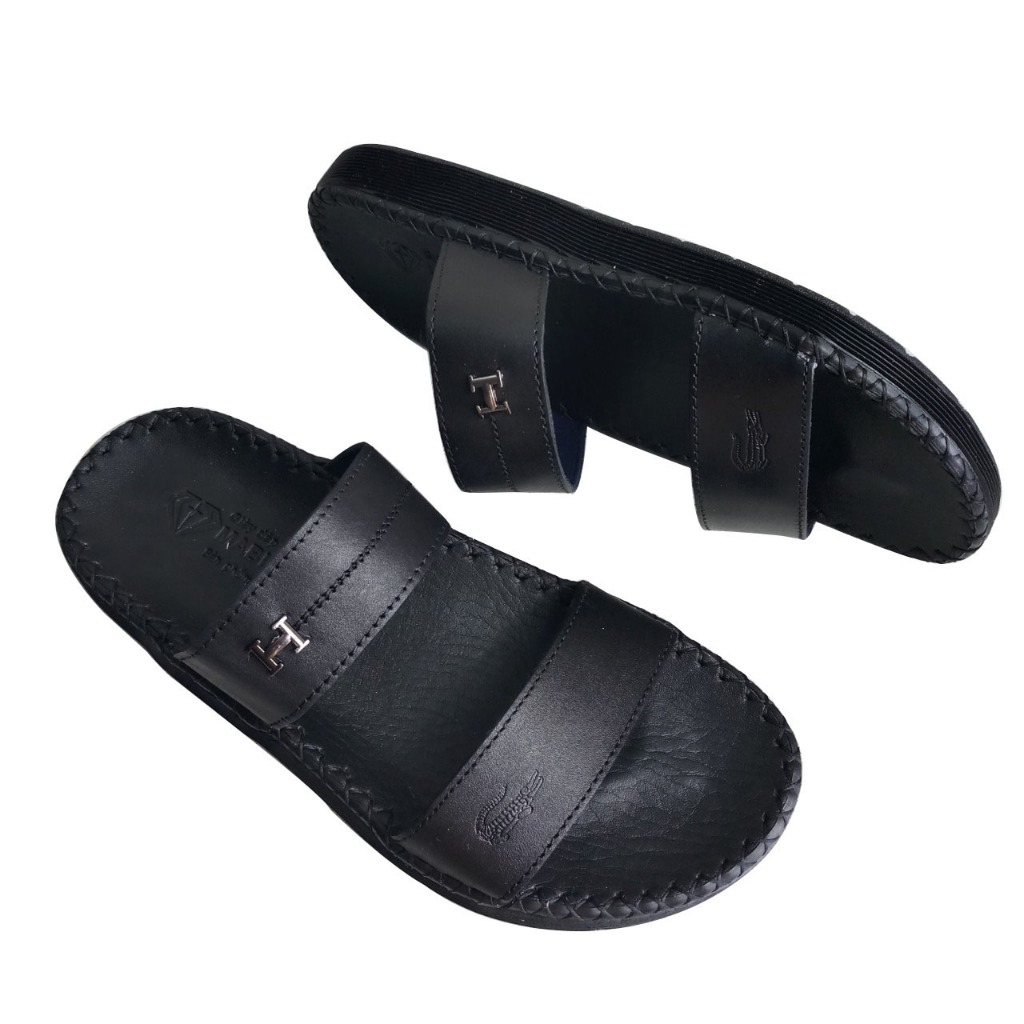sandals: (53, 399, 807, 932), (306, 142, 1003, 567)
